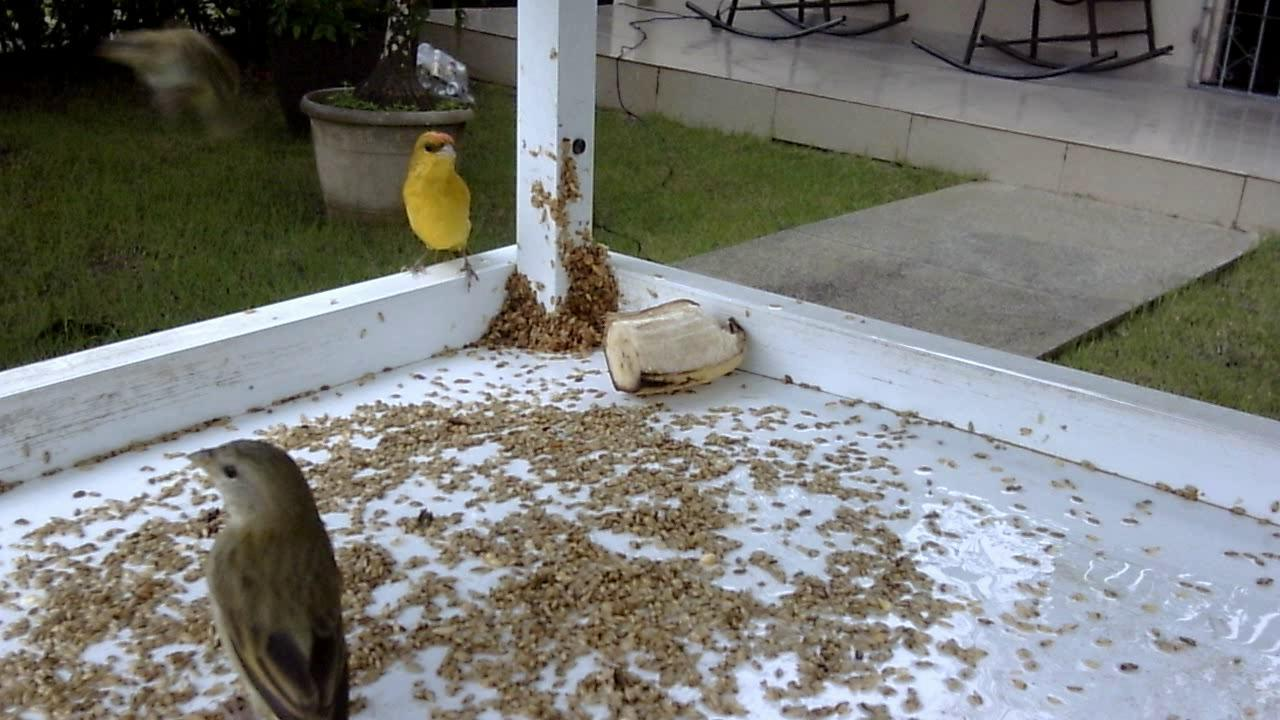canario_do_amazonas: (178, 431, 365, 710), (390, 124, 477, 294)
